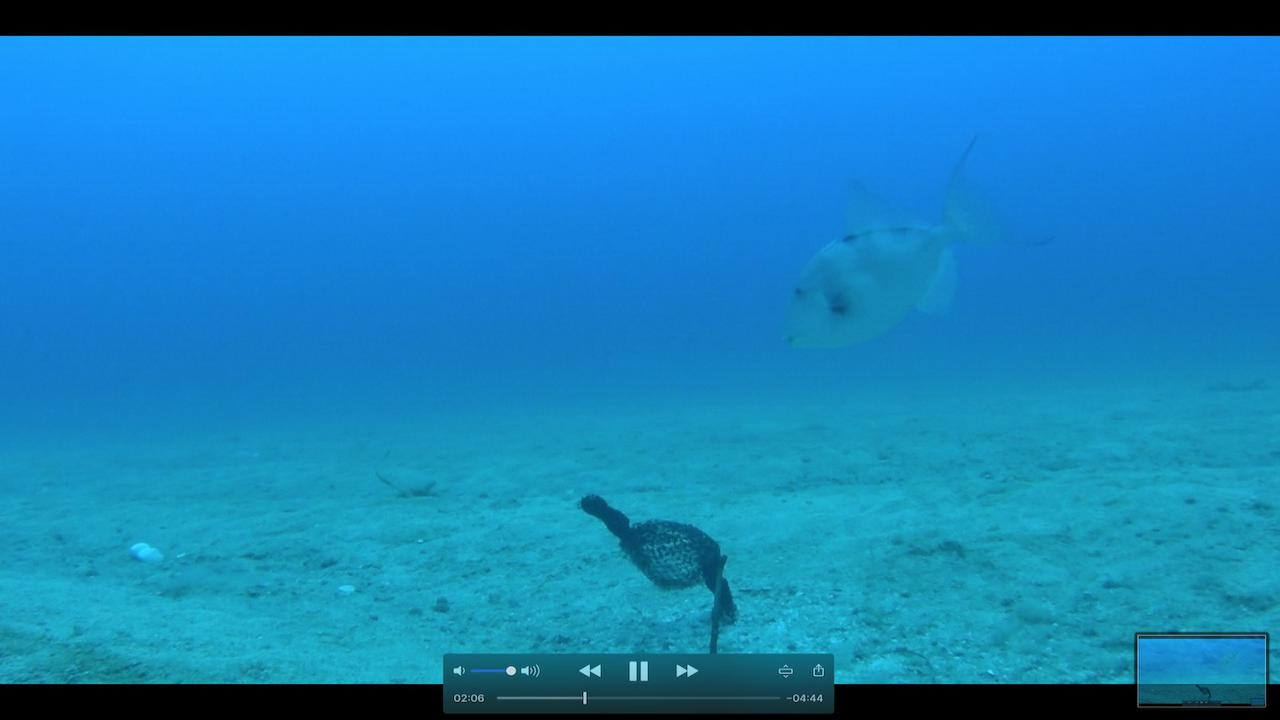balistes: (774, 127, 1065, 356)
